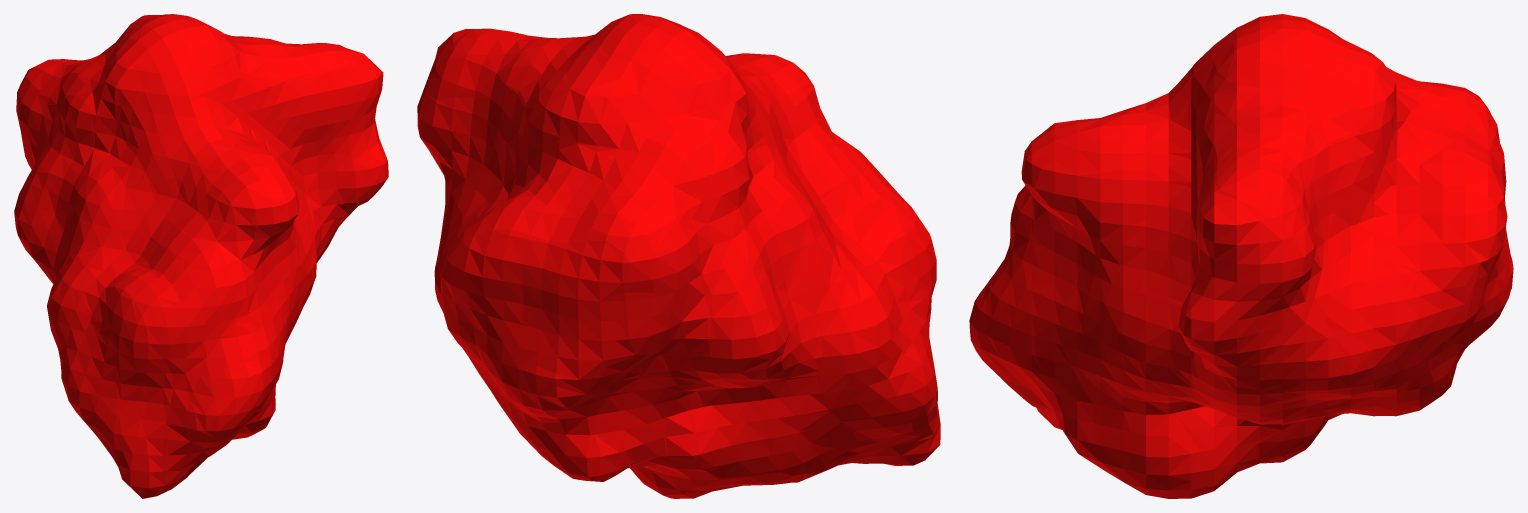
Rendered from thrB_coarse.dae.
3 views of the same model, side by side, from view 1: azimuth 30°, elevation 25°; view 2: azimuth 150°, elevation 25°; view 3: azimuth 270°, elevation 25° (orthographic). The views are drawn at different scales.
Visible parts, largest first — view 1: thrB; view 2: thrB; view 3: thrB.
Boxes of the visible parts, x1=… form: thrB: x1=14, y1=14, x2=388, y2=498; thrB: x1=417, y1=14, x2=940, y2=498; thrB: x1=969, y1=14, x2=1513, y2=498.
Size of the model in its own units: 53.31 by 56.04 by 59.13.
